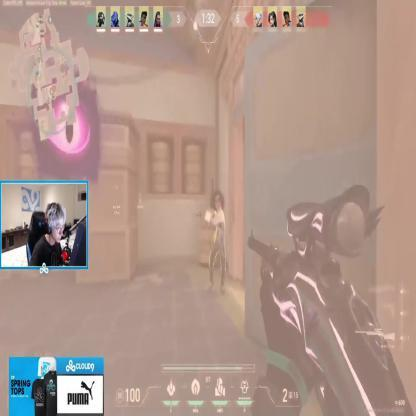enemy: (206, 192, 226, 297)
enemy_head: (214, 194, 222, 212)
